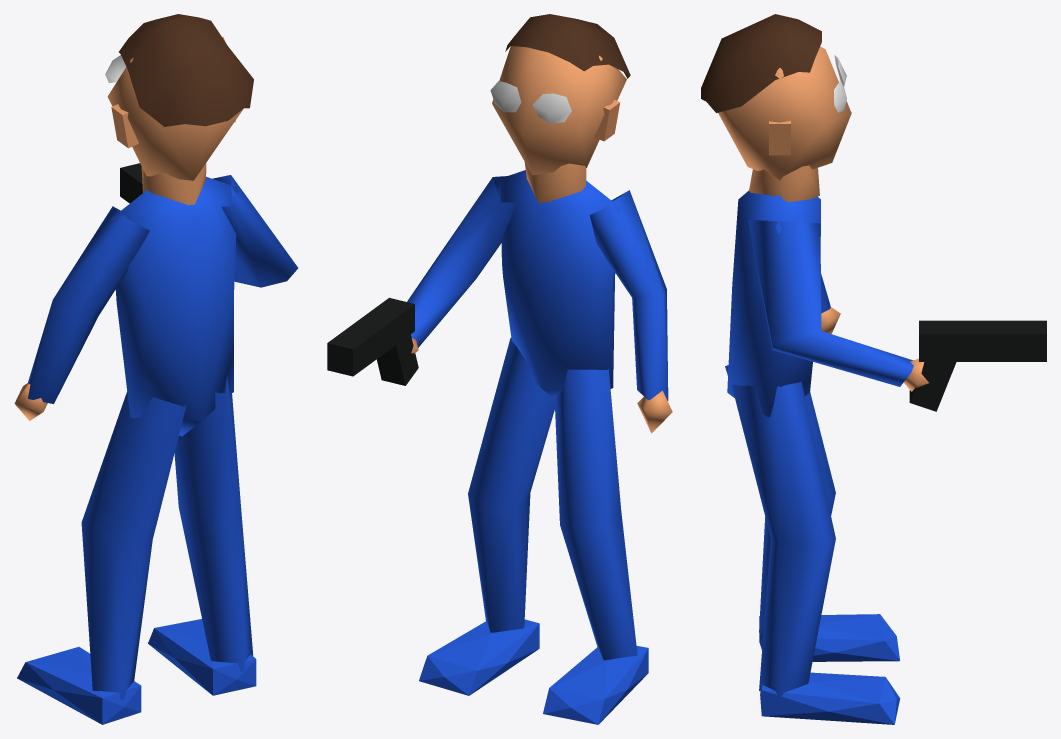
File: boy.obj
3 renders of one model, left to right at view 1: azimuth 30°, elevation 25°; view 2: azimuth 150°, elevation 25°; view 3: azimuth 270°, elevation 25°, orthographic. The views are drawn at different scales.
Visible parts, largest first — view 1: Sphere_5, Sphere_17_1, Sphere_17, Spline_Mesh_1, Sphere_6_1, Sphere_4, Cube_3, Sphere_6, Cube_3_1, Sphere_14, Cube_12, Cube_1_1 (+1 smaller); view 2: Sphere_5, Sphere_17_1, Sphere_17, Sphere_4, Sphere_6_1, Sphere_6, Cube_3_1, Cube_3, Spline_Mesh_1, Cube_12, Sphere_14, Cube_13 (+4 smaller); view 3: Sphere_17, Sphere_6, Sphere_5, Sphere_4, Spline_Mesh_1, Cube_3_1, Cube_12, Cube_3, Sphere_14, Sphere_17_1, Cube_13, Cube_1.
Boxes of the visible parts, x1=… form: Sphere_5: x1=111, y1=176, x2=237, y2=436; Sphere_17_1: x1=81, y1=391, x2=185, y2=699; Sphere_17: x1=174, y1=375, x2=253, y2=671; Spline_Mesh_1: x1=119, y1=14, x2=253, y2=126; Sphere_6_1: x1=28, y1=206, x2=149, y2=403; Sphere_4: x1=107, y1=37, x2=243, y2=180; Cube_3: x1=17, y1=647, x2=141, y2=724; Sphere_6: x1=212, y1=175, x2=298, y2=287; Cube_3_1: x1=148, y1=619, x2=256, y2=695; Sphere_14: x1=141, y1=163, x2=206, y2=205; Cube_12: x1=120, y1=163, x2=142, y2=203; Cube_1_1: x1=111, y1=104, x2=138, y2=148; Sphere_5: x1=500, y1=170, x2=620, y2=398; Sphere_17_1: x1=554, y1=369, x2=637, y2=660; Sphere_17: x1=468, y1=338, x2=554, y2=632; Sphere_4: x1=492, y1=36, x2=626, y2=175; Sphere_6_1: x1=590, y1=190, x2=668, y2=400; Sphere_6: x1=407, y1=176, x2=516, y2=347; Cube_3_1: x1=419, y1=619, x2=539, y2=695; Cube_3: x1=543, y1=646, x2=648, y2=724; Spline_Mesh_1: x1=505, y1=14, x2=630, y2=78; Cube_12: x1=327, y1=297, x2=414, y2=376; Sphere_14: x1=524, y1=162, x2=586, y2=203; Cube_13: x1=377, y1=334, x2=418, y2=385; Sphere_17: x1=731, y1=381, x2=835, y2=696; Sphere_6: x1=748, y1=220, x2=913, y2=386; Sphere_5: x1=727, y1=190, x2=820, y2=417; Sphere_4: x1=718, y1=46, x2=851, y2=180; Spline_Mesh_1: x1=701, y1=14, x2=821, y2=112; Cube_3_1: x1=760, y1=672, x2=900, y2=724; Cube_12: x1=919, y1=320, x2=1046, y2=361; Cube_3: x1=759, y1=614, x2=900, y2=661; Sphere_14: x1=749, y1=165, x2=819, y2=202; Sphere_17_1: x1=725, y1=365, x2=835, y2=633; Cube_13: x1=909, y1=362, x2=956, y2=411; Cube_1: x1=769, y1=121, x2=790, y2=155.
Bounding box in the file's own units: 1.33 × 3.32 × 1.57.
